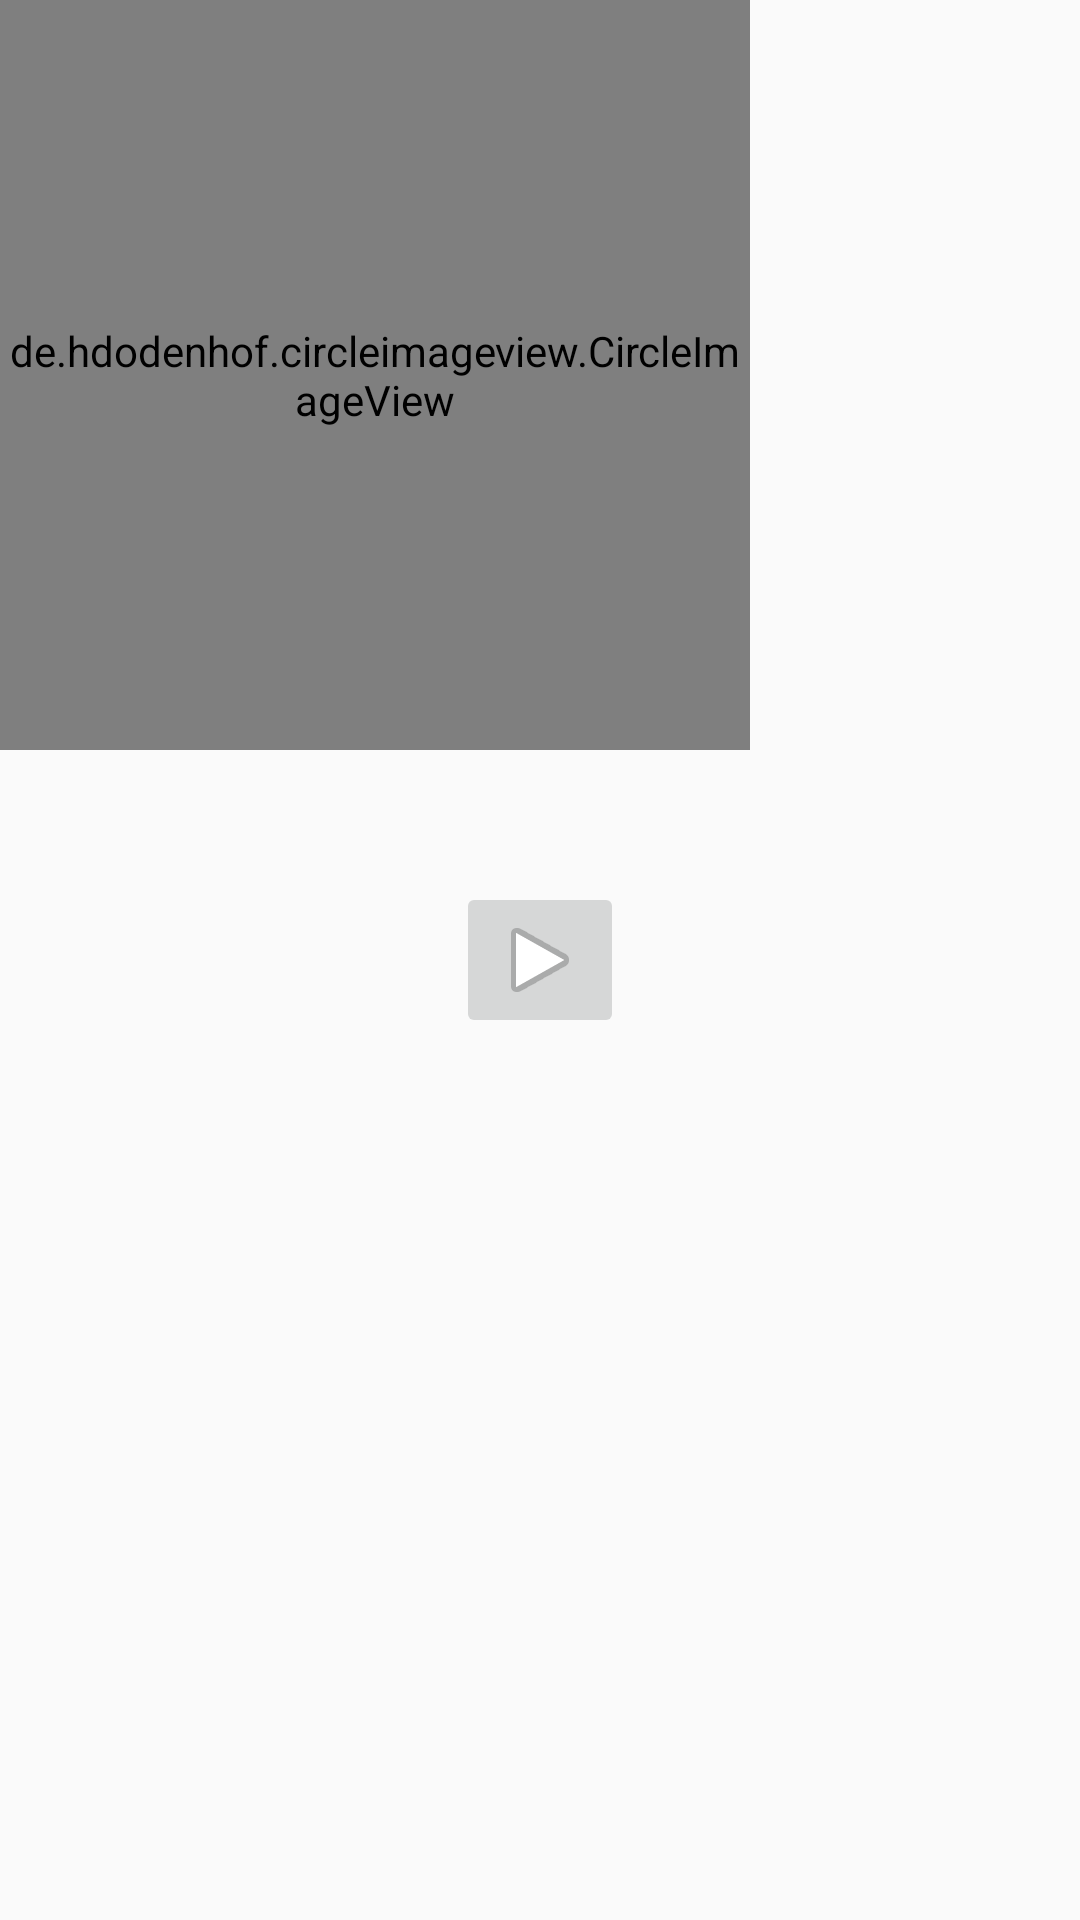

Screen size 1080 × 1920. Icon name, then its center in pixels as [x,y]:
play: [540,960]
